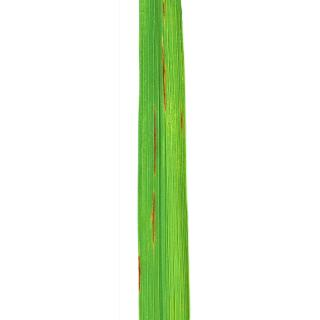Bercak-Cokelat-Sempit: (158, 34, 174, 114), (146, 108, 160, 180), (145, 188, 161, 242), (132, 251, 144, 289), (158, 1, 174, 21), (178, 106, 188, 135)
